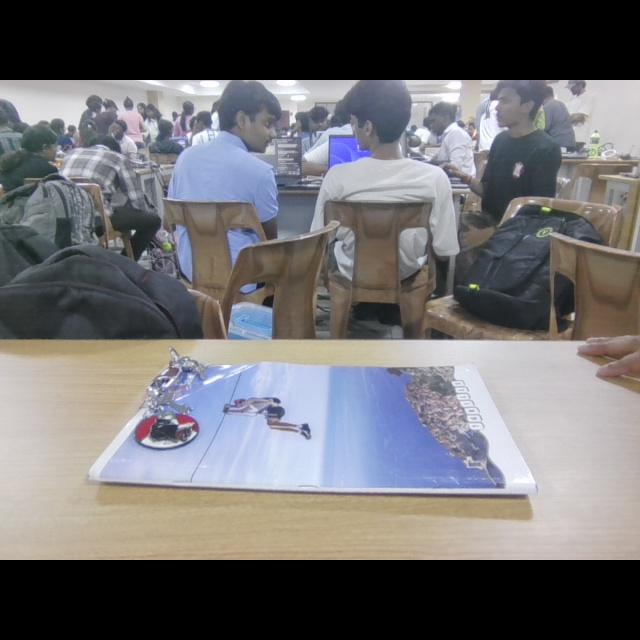keys: (132, 346, 238, 464)
